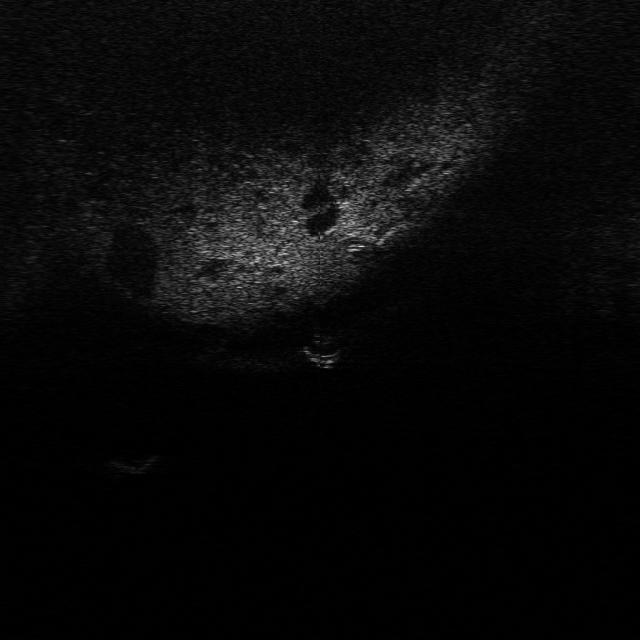ball: (300, 333, 344, 365)
cube: (104, 452, 162, 476)
